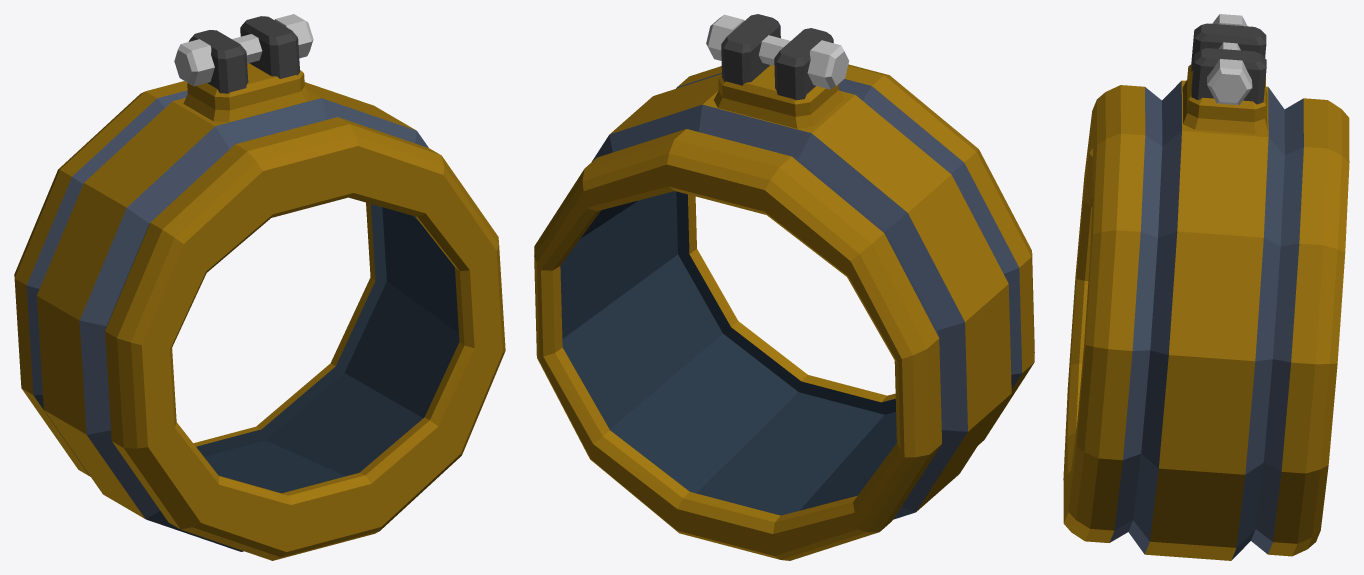
File: simple-band-ring-929543.glb
3 renders of one model, left to right at view 1: azimuth 30°, elevation 25°; view 2: azimuth 150°, elevation 25°; view 3: azimuth 270°, elevation 25°, orthographic. The views are drawn at different scales.
Visible parts, largest first — view 1: middle-proximal; view 2: middle-proximal; view 3: middle-proximal.
Boxes of the visible parts, x1,y1,x2,y2 form: middle-proximal: [14, 14, 505, 560]; middle-proximal: [534, 14, 1034, 560]; middle-proximal: [1063, 14, 1349, 560].
Bounding box in the file's own units: 0.0258 × 0.0301 × 0.0158.
